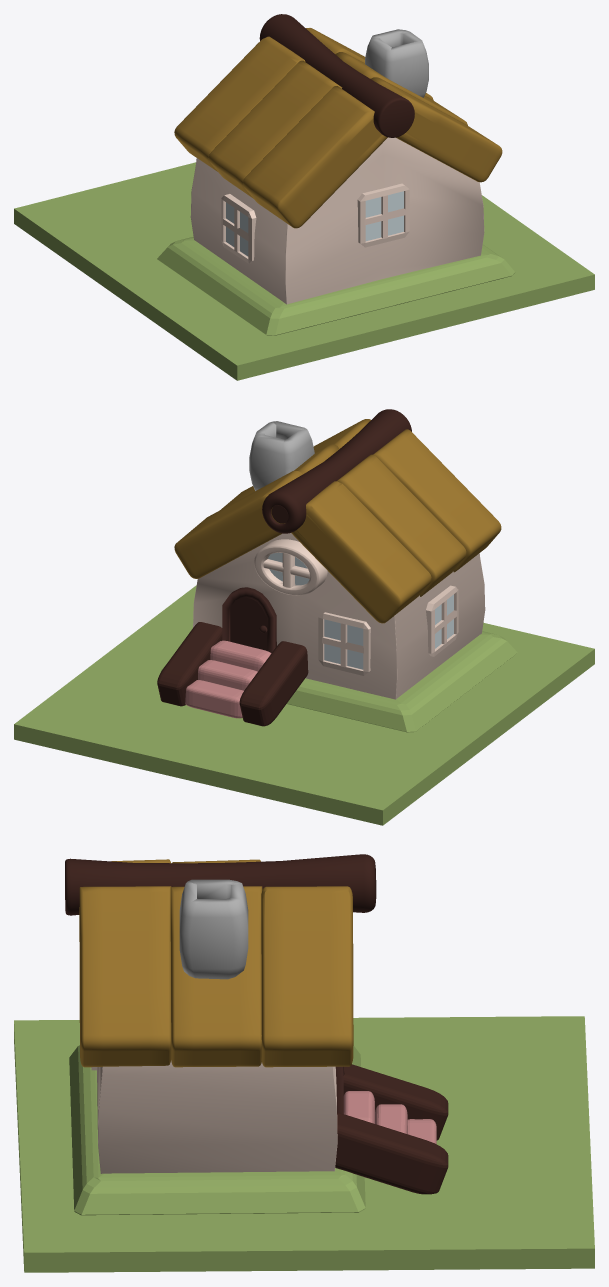
The model's file is house_3.fbx.
The picture shows the model from 3 angles, top to bottom: view 1: azimuth 30°, elevation 25°; view 2: azimuth 150°, elevation 25°; view 3: azimuth 270°, elevation 25°; orthographic projection. The views are drawn at different scales.
Parts seen in each view (by area): view 1: Cube, Cube.014, Cube.001, Cylinder, Cube.004, Cube.011; view 2: Cube, Cube.014, Cube.001, Cube.005, Cylinder, Cube.007, Cube.011, Roundcube, Cube.003, Cube.004; view 3: Cube, Cube.014, Cube.001, Cube.005, Cylinder, Cube.011, Cube.007.
Part boxes in pixels (x1=…): Cube: x1=14, y1=162, x2=594, y2=380; Cube.014: x1=174, y1=28, x2=502, y2=228; Cube.001: x1=190, y1=137, x2=484, y2=304; Cylinder: x1=259, y1=14, x2=414, y2=137; Cube.004: x1=221, y1=183, x2=409, y2=263; Cube.011: x1=365, y1=29, x2=428, y2=97; Cube: x1=14, y1=585, x2=594, y2=825; Cube.014: x1=174, y1=419, x2=501, y2=623; Cube.001: x1=193, y1=533, x2=485, y2=699; Cube.005: x1=157, y1=622, x2=308, y2=726; Cylinder: x1=262, y1=409, x2=411, y2=533; Cube.007: x1=185, y1=640, x2=271, y2=718; Cube.011: x1=249, y1=421, x2=314, y2=490; Roundcube: x1=222, y1=587, x2=276, y2=652; Cube.003: x1=318, y1=612, x2=370, y2=675; Cube.004: x1=426, y1=585, x2=458, y2=656; Cube: x1=14, y1=1016, x2=594, y2=1272; Cube.014: x1=79, y1=859, x2=353, y2=1067; Cube.001: x1=97, y1=1060, x2=337, y2=1173; Cube.005: x1=335, y1=1064, x2=448, y2=1194; Cylinder: x1=65, y1=854, x2=376, y2=915; Cube.011: x1=179, y1=879, x2=248, y2=979; Cube.007: x1=343, y1=1091, x2=436, y2=1177.
Size of the model in its own units: 924 by 546 by 959.
